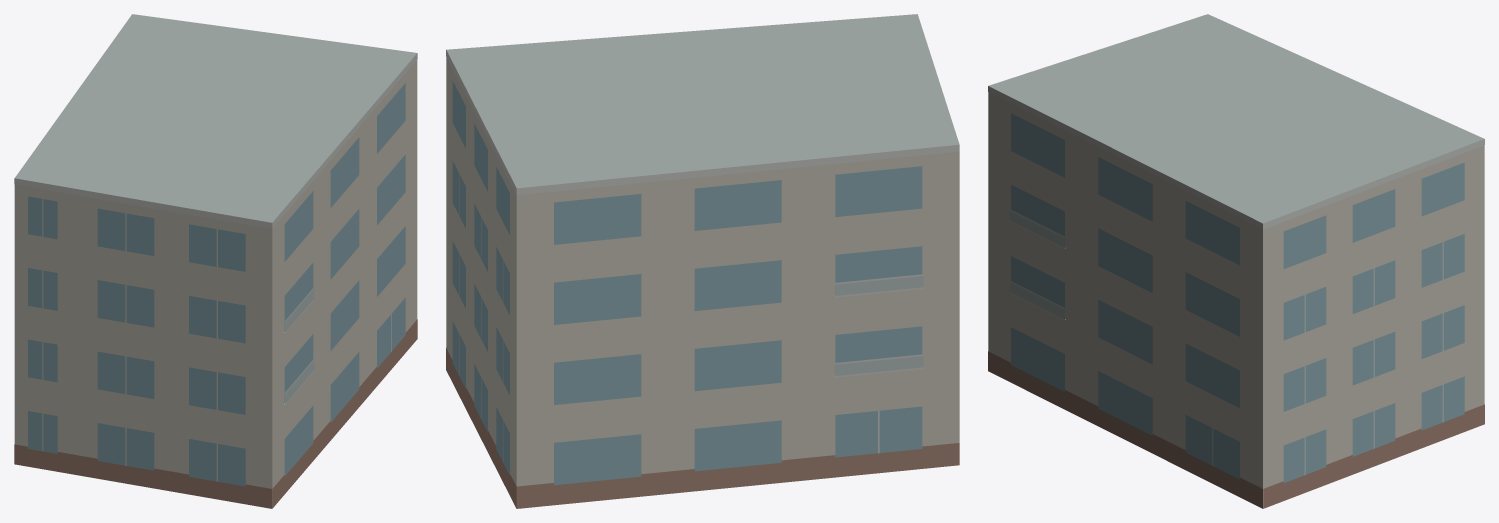
File: survey-upis-32650247.glb
3 views of the same model, side by side, from view 1: azimuth 30°, elevation 25°; view 2: azimuth 150°, elevation 25°; view 3: azimuth 270°, elevation 25° (orthographic). The views are drawn at different scales.
Visible parts, largest first — view 1: survey-upis-32650247.tmp; view 2: survey-upis-32650247.tmp; view 3: survey-upis-32650247.tmp.
Boxes of the visible parts, <box> form: survey-upis-32650247.tmp: <box>14,14,417,508</box>; survey-upis-32650247.tmp: <box>446,14,959,508</box>; survey-upis-32650247.tmp: <box>988,14,1484,508</box>.
Size of the model in its own units: 17.81 by 11.3 by 17.83.
